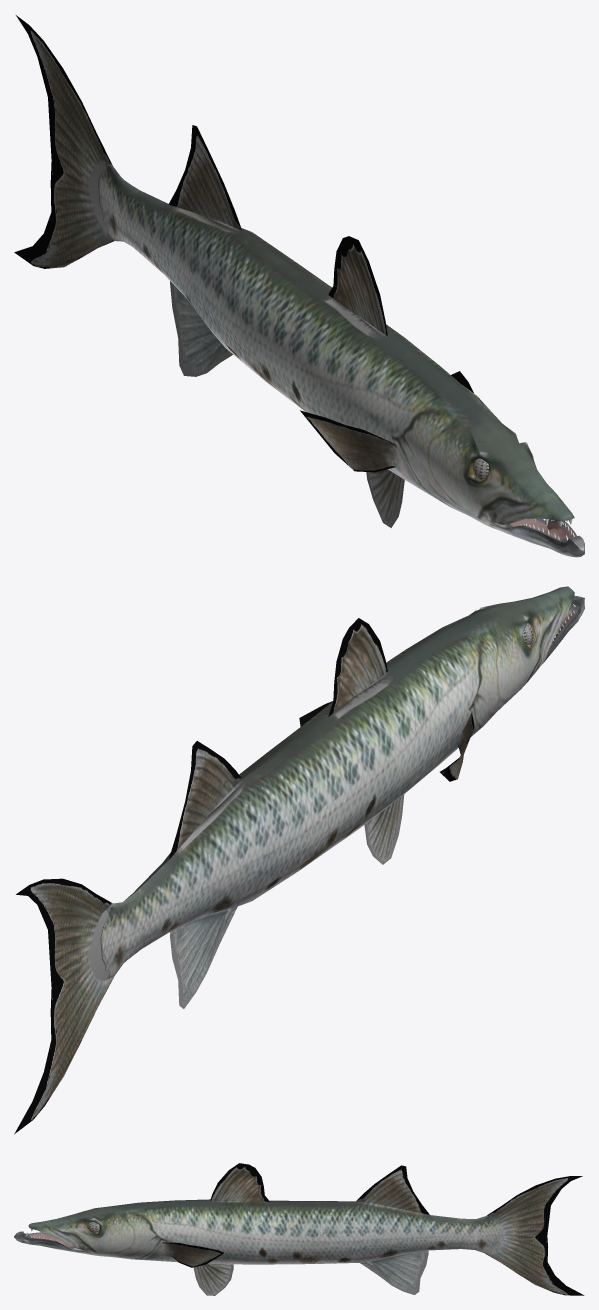
The model's file is barracuda.glb.
The picture shows the model from 3 angles, top to bottom: view 1: azimuth 30°, elevation 25°; view 2: azimuth 150°, elevation 25°; view 3: azimuth 270°, elevation 25°; orthographic projection. The views are drawn at different scales.
Visible parts, largest first — view 1: Object_2; view 2: Object_2; view 3: Object_2.
Part boxes in pixels (x1=…): Object_2: x1=14, y1=15, x2=584, y2=557; Object_2: x1=14, y1=586, x2=584, y2=1134; Object_2: x1=14, y1=1163, x2=584, y2=1295.
Bounding box in the file's own units: 0.4069 × 0.6415 × 2.5.
1 material, 1 textured.
